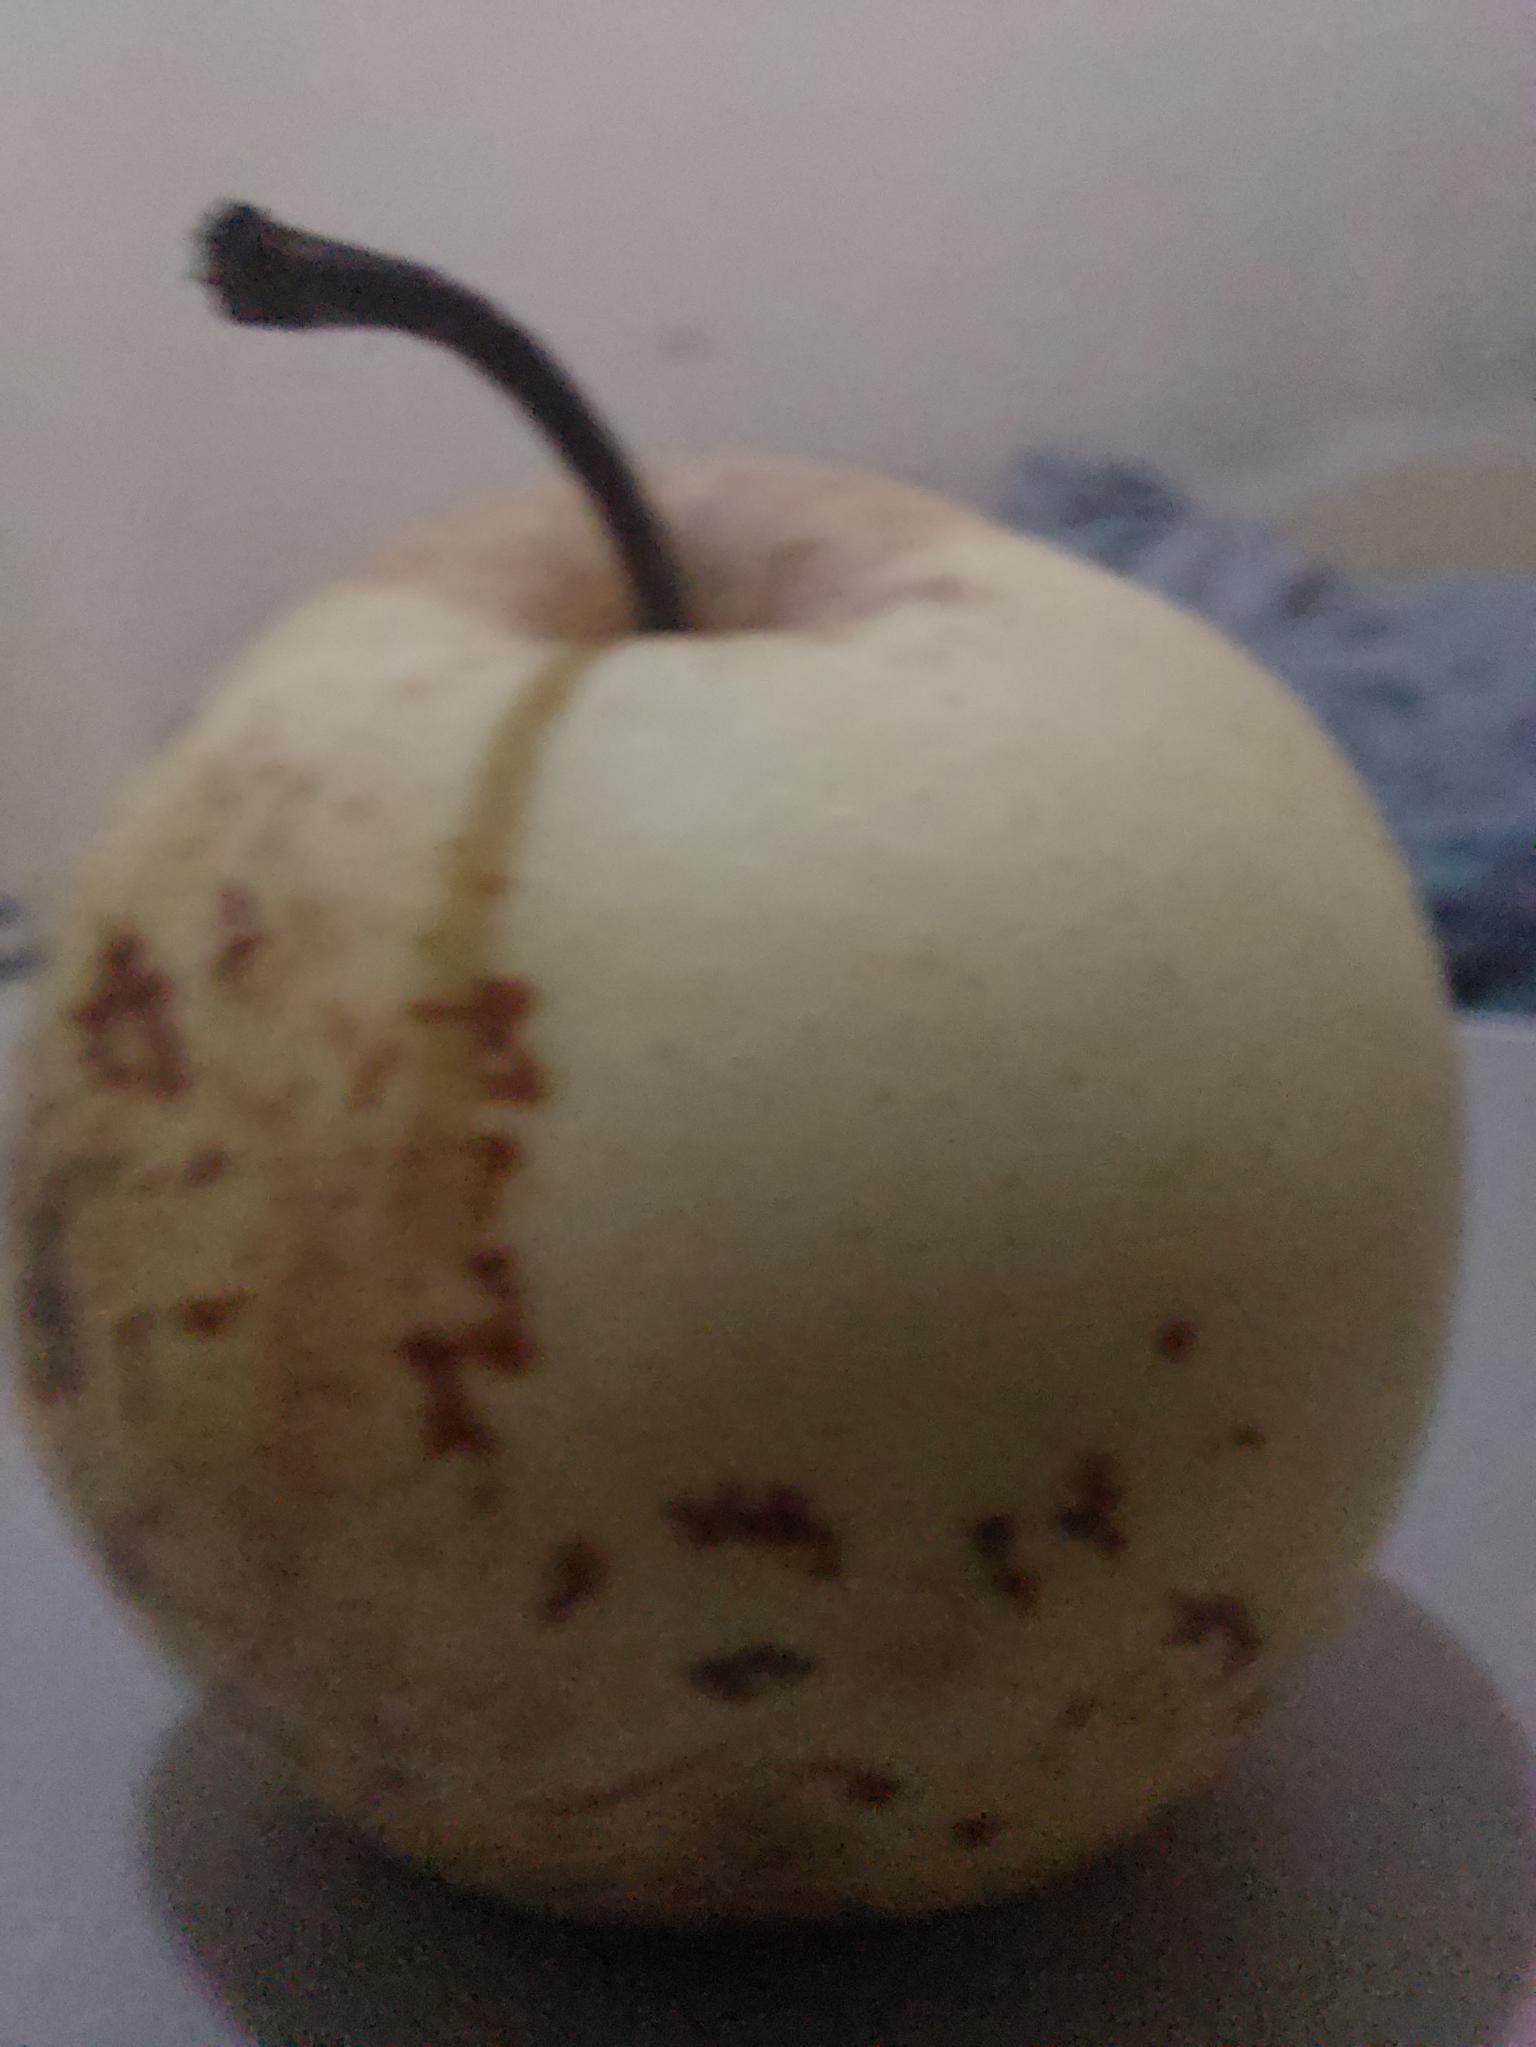Bad Pear: (0, 466, 1536, 1929)
